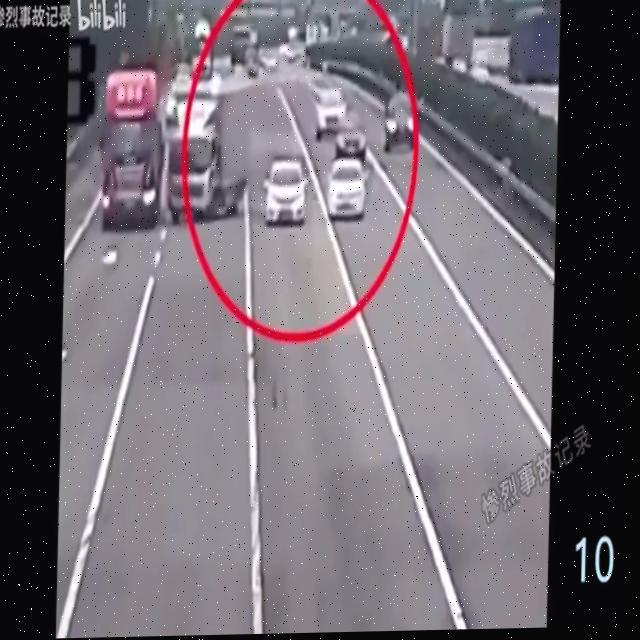multiple_accident: (320, 114, 411, 257)
normal: (239, 149, 351, 227)
